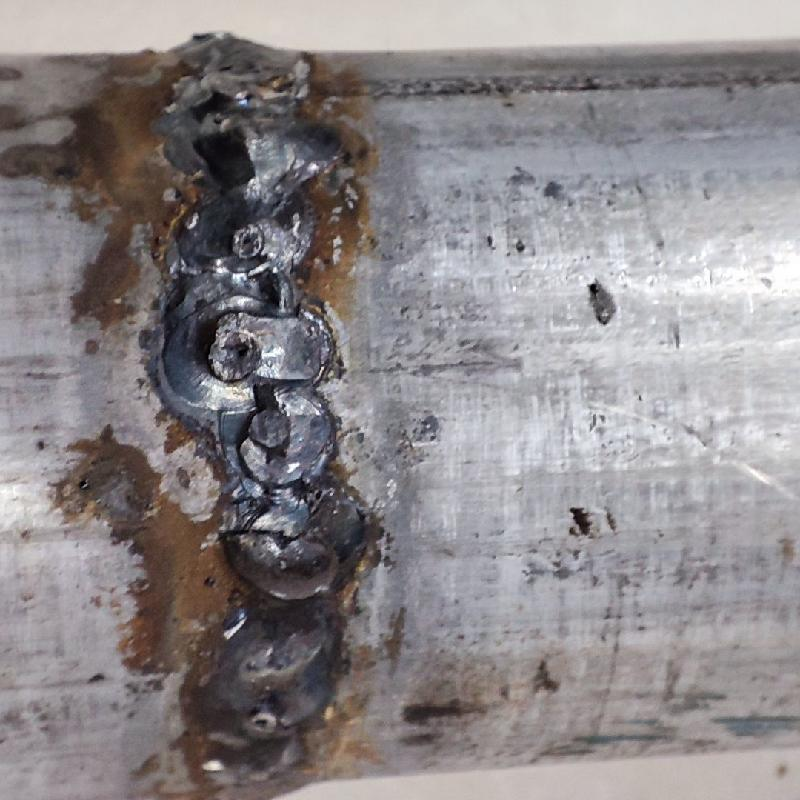Surface_pores: (214, 322, 265, 377), (228, 221, 266, 263), (249, 715, 286, 737)
Weld: (217, 520, 347, 599)
wrong_size: (148, 26, 343, 513), (215, 605, 332, 789)
